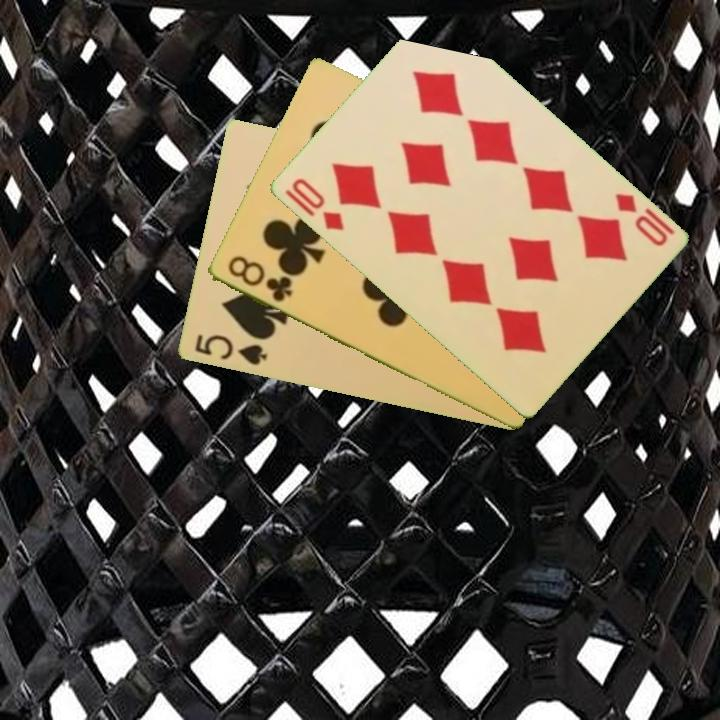10d: (610, 189, 677, 250), (281, 174, 347, 234)
5s: (191, 331, 269, 369)
8c: (223, 252, 295, 306)
